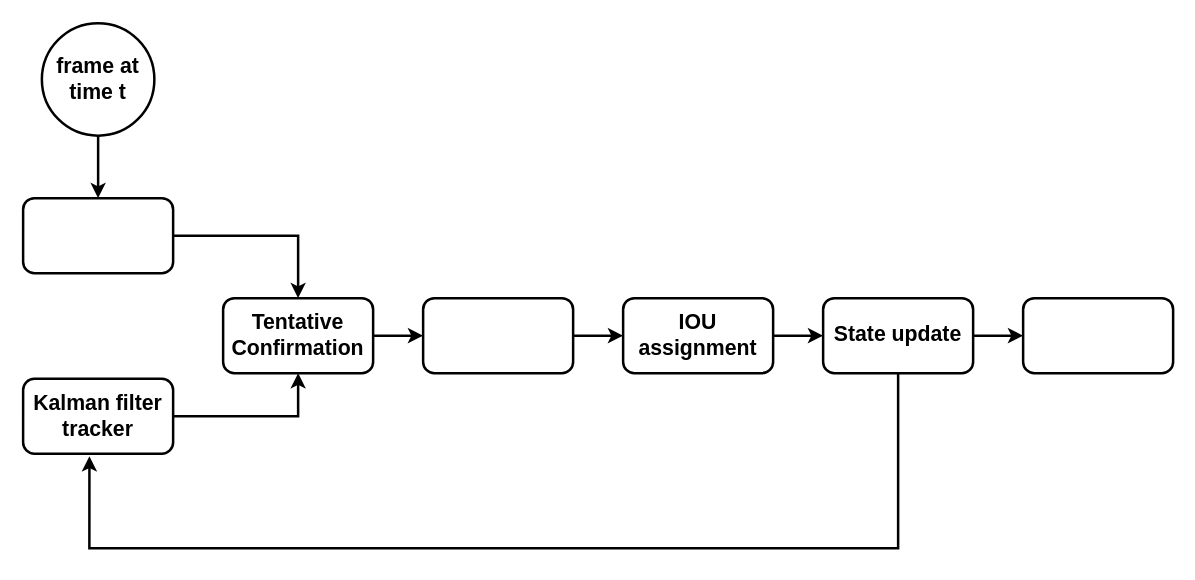
The diagram is 1195 pixels wide and 580 high, and some of its shapes have lost their labels. Here are the shapes that lost their labels. From the top down, the box of each, then its label:
(21, 196, 174, 274): FrRCNN detector
(421, 296, 574, 374): Matching Cascade
(1021, 296, 1174, 374): Visualization
